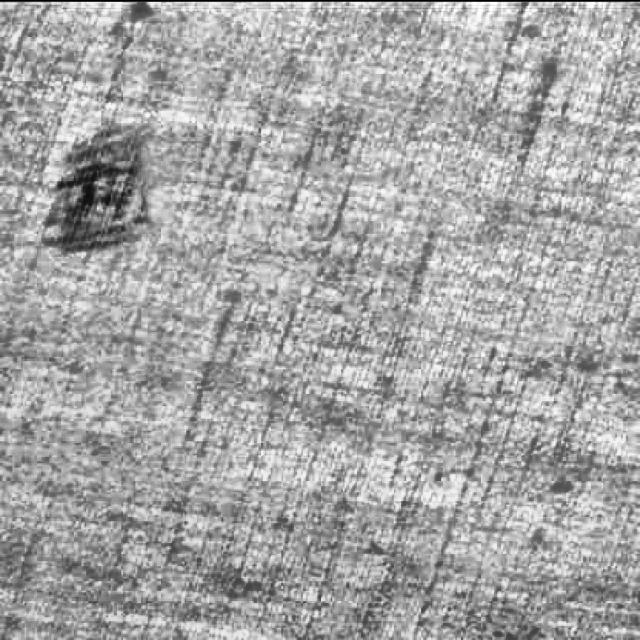oil_spot: (30, 105, 167, 264)
